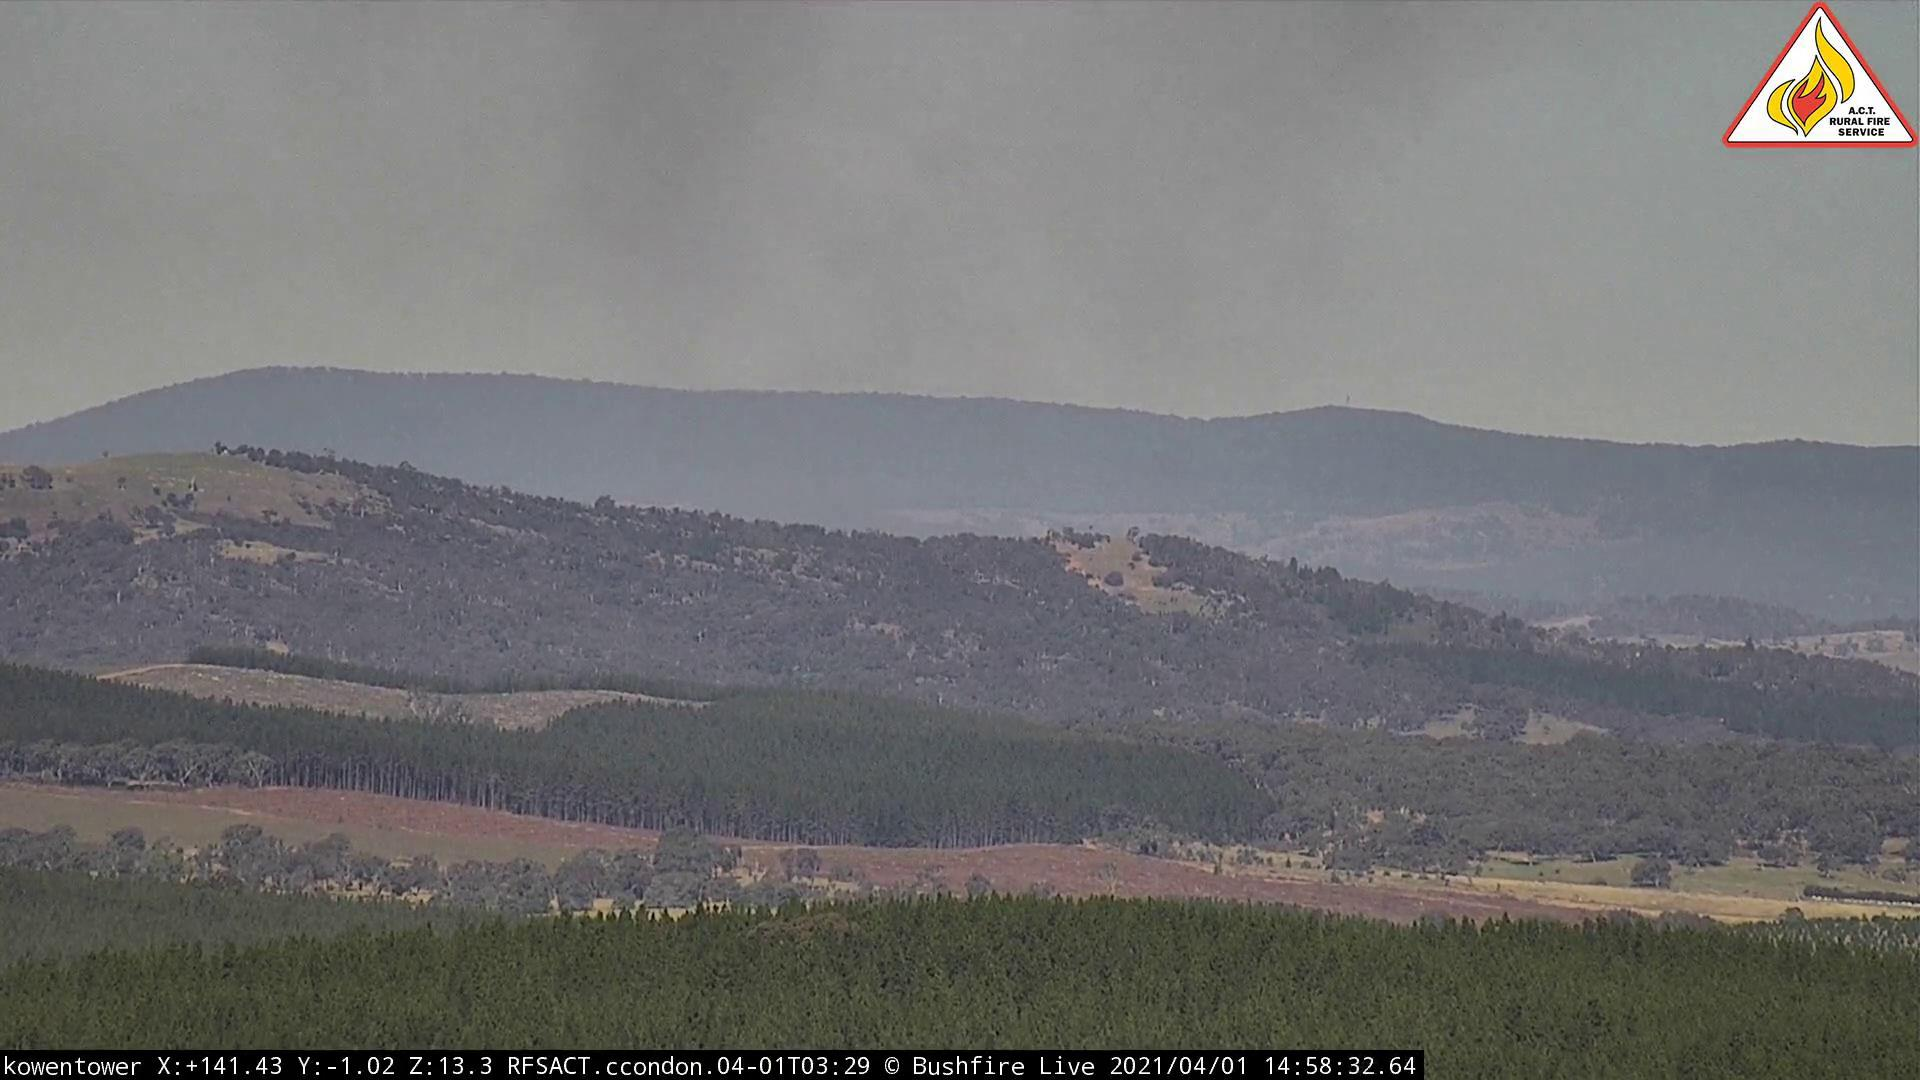Smoke: (434, 3, 1476, 415)
